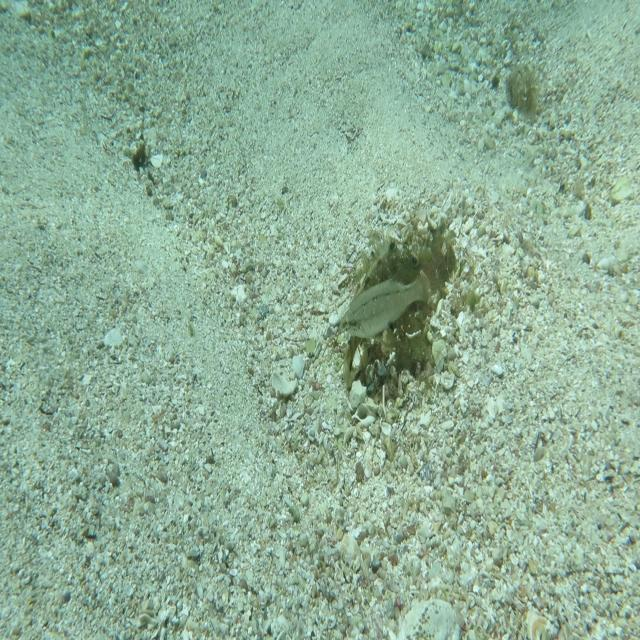BK_SW: (341, 231, 432, 392)
female: (338, 258, 442, 339)
nest: (329, 209, 449, 408)
vegetation: (505, 62, 542, 119), (129, 143, 149, 169)
